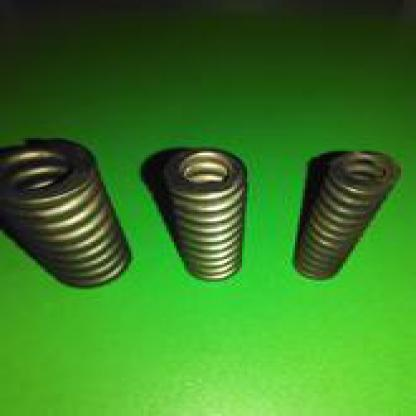FOD: (0, 132, 136, 297), (284, 144, 407, 286), (157, 144, 251, 286)
